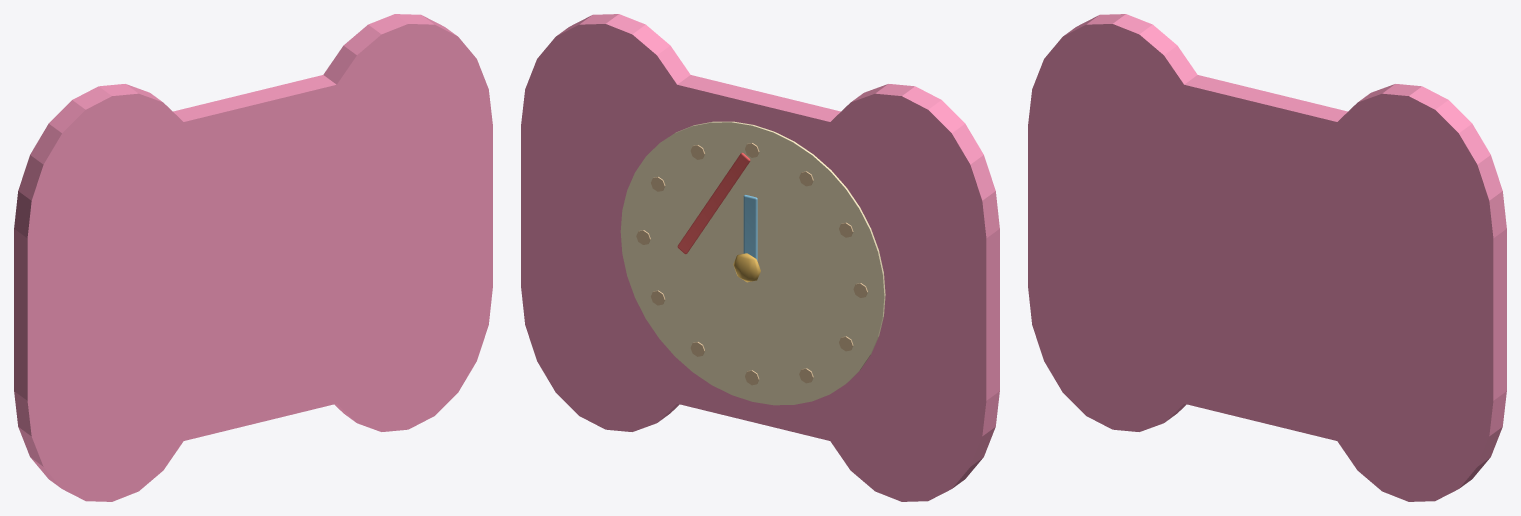
Rendered from art_clock.glb.
3 views of the same model, side by side, from view 1: azimuth 30°, elevation 25°; view 2: azimuth 150°, elevation 25°; view 3: azimuth 330°, elevation 25° (orthographic).
Parts seen in each view (by area): view 1: Body; view 2: Body, Hand_M, Hand_H; view 3: Body.
Part boxes in pixels (x1,y1,x2,y2): Body: (14,14,492,501); Body: (521,14,999,501); Hand_M: (677,152,750,254); Hand_H: (743,195,757,260); Body: (1028,14,1506,501).
Size of the model in its own units: 0.6 by 0.5 by 0.05.
6 materials, 6 textured.
